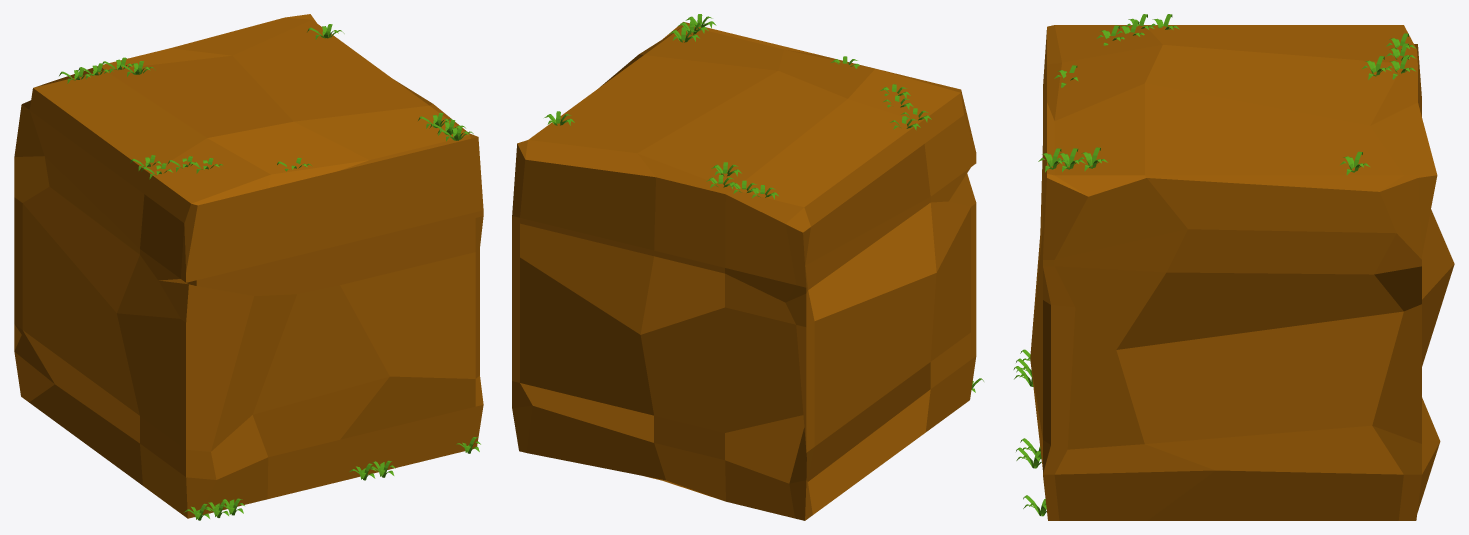
The model's file is block3.obj.
The picture shows the model from 3 angles, left to right: view 1: azimuth 30°, elevation 25°; view 2: azimuth 150°, elevation 25°; view 3: azimuth 270°, elevation 25°; orthographic projection. The views are drawn at different scales.
Parts seen in each view (by area): view 1: Plane.032_Plane.038; view 2: Plane.032_Plane.038; view 3: Plane.032_Plane.038.
Boxes of the visible parts, x1,y1,x2,y2 form: Plane.032_Plane.038: (14,14,483,520); Plane.032_Plane.038: (512,14,983,520); Plane.032_Plane.038: (1013,14,1454,520).
Bounding box in the file's own units: 4.35 × 4.22 × 4.66.
